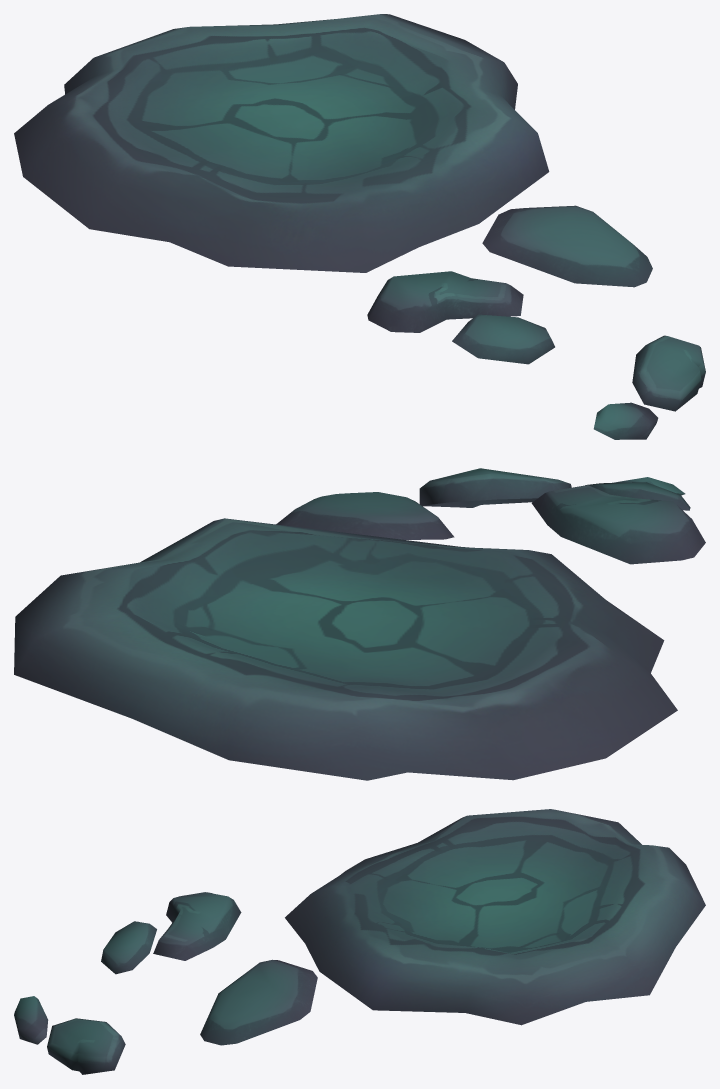
File: step_stones.fbx
3 renders of one model, top to bottom at view 1: azimuth 30°, elevation 25°; view 2: azimuth 150°, elevation 25°; view 3: azimuth 270°, elevation 25°, orthographic. The views are drawn at different scales.
Parts seen in each view (by area): view 1: step_stone1, step_stone2, step_stone3, step_stone4, step_stone5, step_stone6; view 2: step_stone1, step_stone3, step_stone2, step_stone4, step_stone5; view 3: step_stone1, step_stone2, step_stone3, step_stone4, step_stone5, step_stone6.
Boxes of the visible parts, x1,y1,x2,y2 form: step_stone1: (14,14,549,272); step_stone2: (482,205,652,287); step_stone3: (367,271,523,332); step_stone4: (632,335,705,411); step_stone5: (452,314,554,364); step_stone6: (593,402,658,439); step_stone1: (14,518,677,780); step_stone3: (531,485,705,564); step_stone2: (276,492,454,539); step_stone4: (419,468,571,507); step_stone5: (585,482,690,510); step_stone1: (285,809,705,1025); step_stone2: (200,959,317,1045); step_stone3: (153,892,241,960); step_stone4: (47,1018,125,1074); step_stone5: (101,921,156,974); step_stone6: (14,996,48,1044).
Size of the model in its own units: 3.98 by 1.23 by 5.95.
